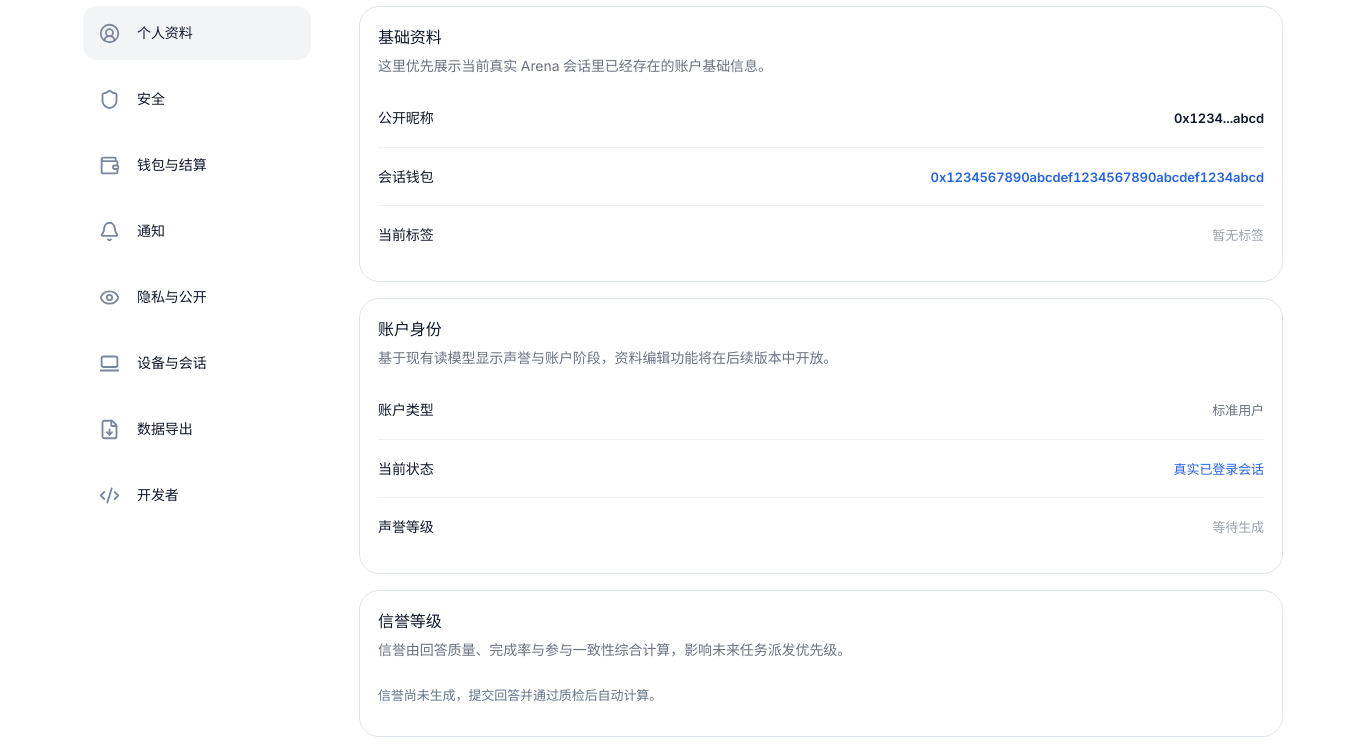
AccountActivityPage › loads and shows the selected historical export artifact detail in the exports section
Click the button "数据导出" at (197, 429), box [83,402,311,456]
(page scrolled)
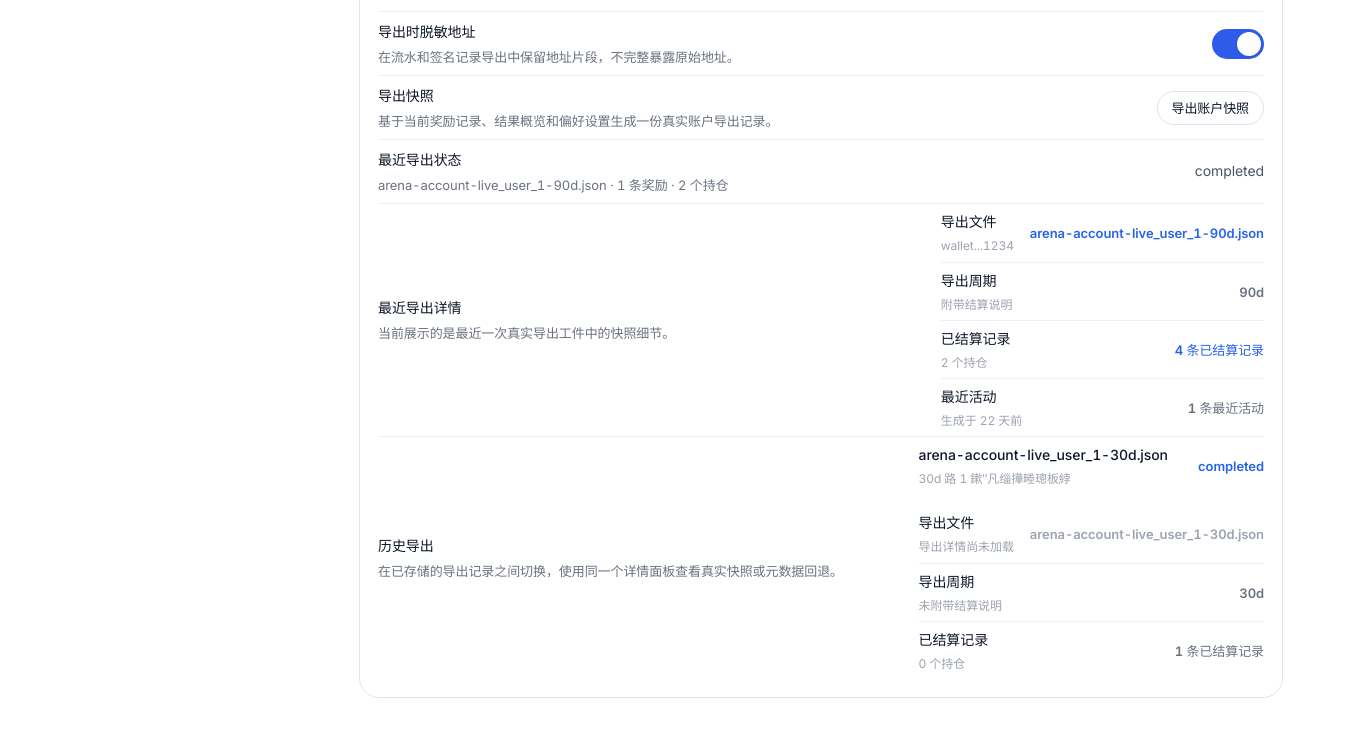
Click the button "arena-account-live_user_1-30d.json" at (1091, 466), box [918,437,1264,495]
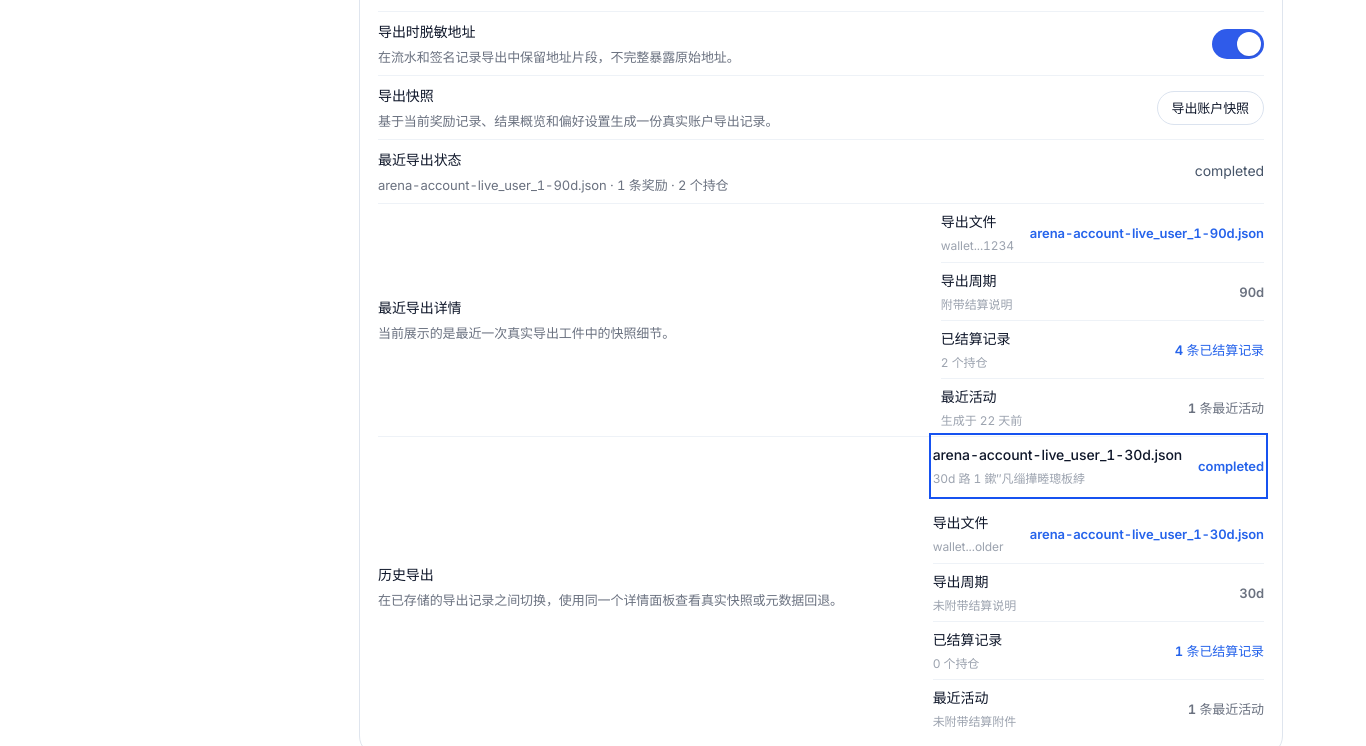
Now the element with test id "account-export-history-detail-panel" is shown, box [933,505,1264,737]
Now the text "1 条已结算记录" is shown, box [1175,641,1264,661]
Now the text "wallet...older" is shown, box [933,538,1014,556]
